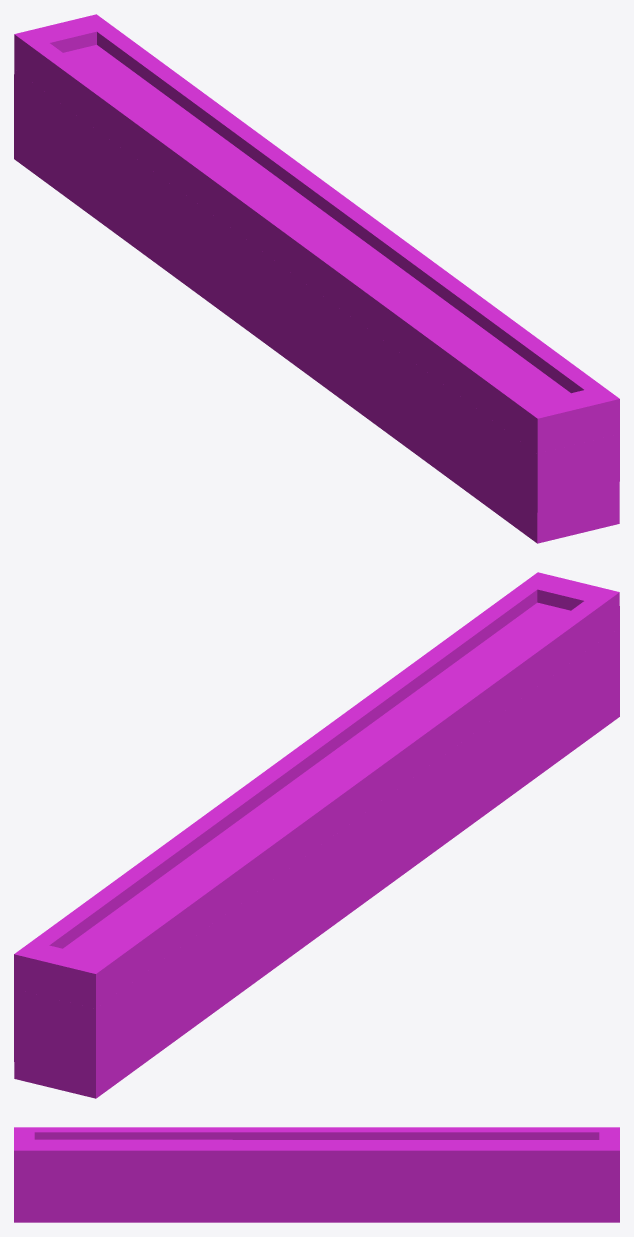
Rendered from LongPlantHolder02_mesh 1.fbx.
The picture shows the model from 3 angles, top to bottom: view 1: azimuth 30°, elevation 25°; view 2: azimuth 150°, elevation 25°; view 3: azimuth 270°, elevation 25°; orthographic projection. The views are drawn at different scales.
Visible parts, largest first — view 1: LongPlantHolder02_mesh; view 2: LongPlantHolder02_mesh; view 3: LongPlantHolder02_mesh.
Boxes of the visible parts, x1=… form: LongPlantHolder02_mesh: x1=14, y1=14, x2=619, y2=543; LongPlantHolder02_mesh: x1=14, y1=572, x2=619, y2=1098; LongPlantHolder02_mesh: x1=14, y1=1127, x2=619, y2=1222.
Bounding box in the file's own units: 139 × 199 × 1510.
